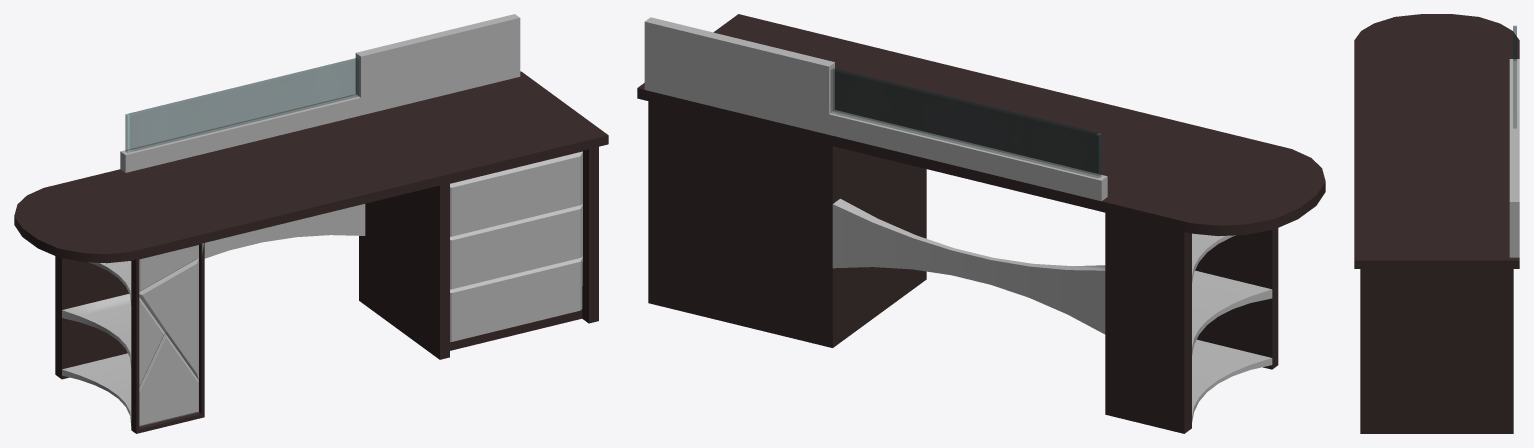
3 renders of one model, left to right at view 1: azimuth 30°, elevation 25°; view 2: azimuth 150°, elevation 25°; view 3: azimuth 270°, elevation 25°, orthographic. The views are drawn at different scales.
Parts seen in each view (by area): view 1: Box001, Box002; view 2: Box001, Box002; view 3: Box001, Box002.
Boxes of the visible parts, left/top/right/bottom form: Box001: left=14, top=14, right=608, bottom=433; Box002: left=125, top=58, right=358, bottom=152; Box001: left=637, top=14, right=1325, bottom=433; Box002: left=831, top=68, right=1101, bottom=178; Box001: left=1354, top=14, right=1519, bottom=433; Box002: left=1513, top=25, right=1516, bottom=128.
Size of the model in its own units: 179 by 78.68 by 50.8.
